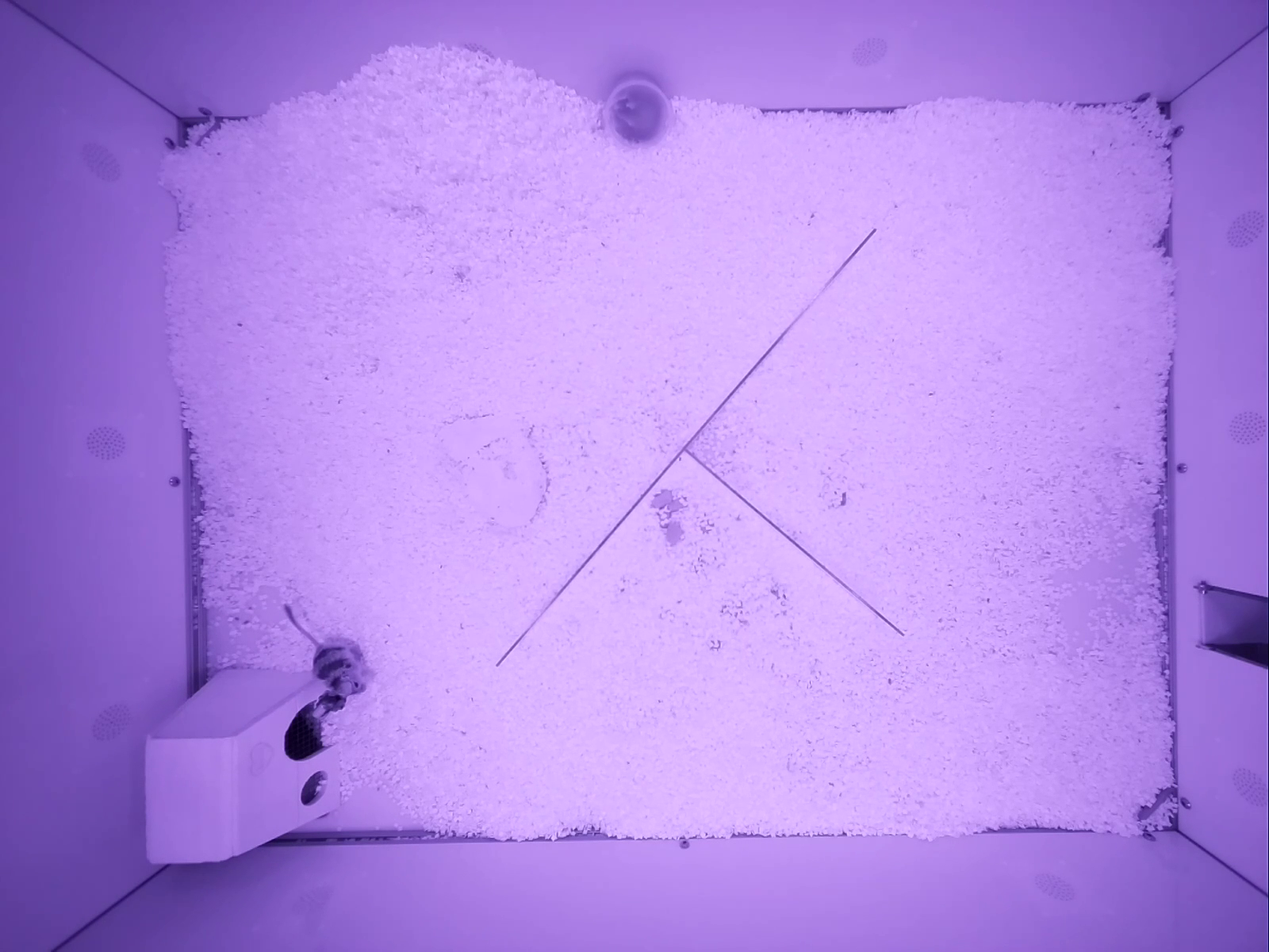adult_back: (284, 605, 370, 708)
